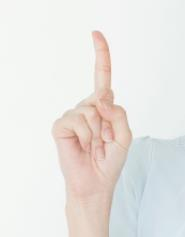up: (51, 29, 131, 202)
